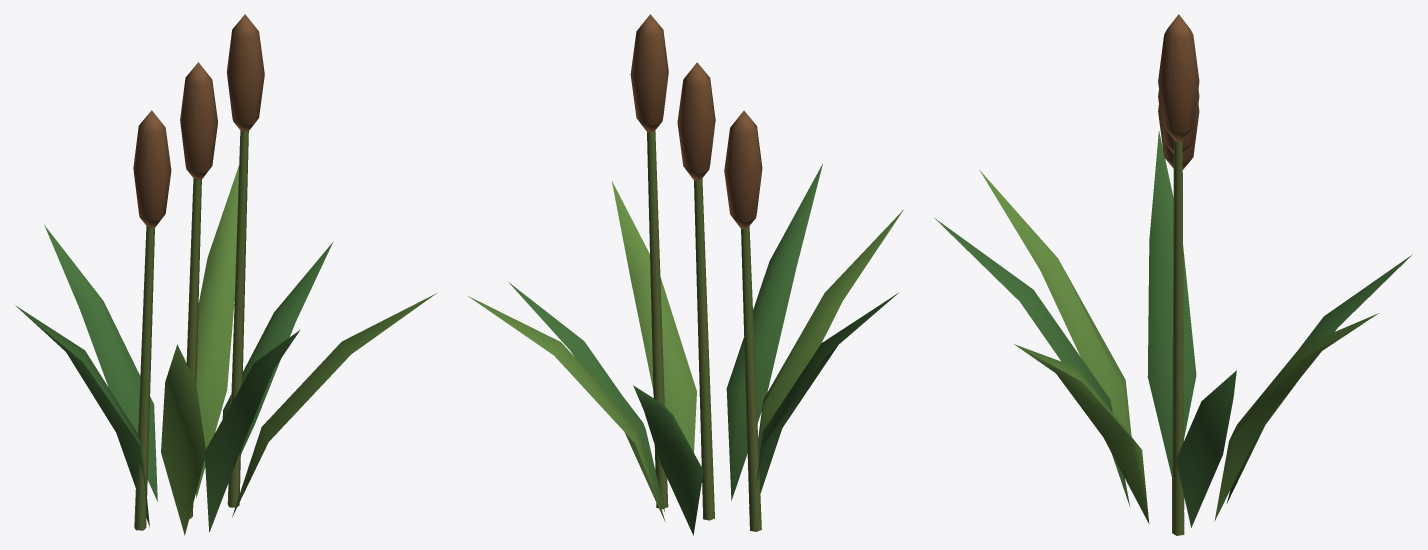
Rendered from cattails.glb.
3 views of the same model, side by side, from view 1: azimuth 30°, elevation 25°; view 2: azimuth 150°, elevation 25°; view 3: azimuth 270°, elevation 25° (orthographic). The views are drawn at different scales.
Parts seen in each view (by area): view 1: cattails; view 2: cattails; view 3: cattails.
Boxes of the visible parts, left/top/right/bottom form: cattails: left=15, top=14, right=436, bottom=535; cattails: left=468, top=14, right=903, bottom=535; cattails: left=934, top=14, right=1412, bottom=535.
Size of the model in its own units: 0.9146 by 1.2 by 0.9941.
